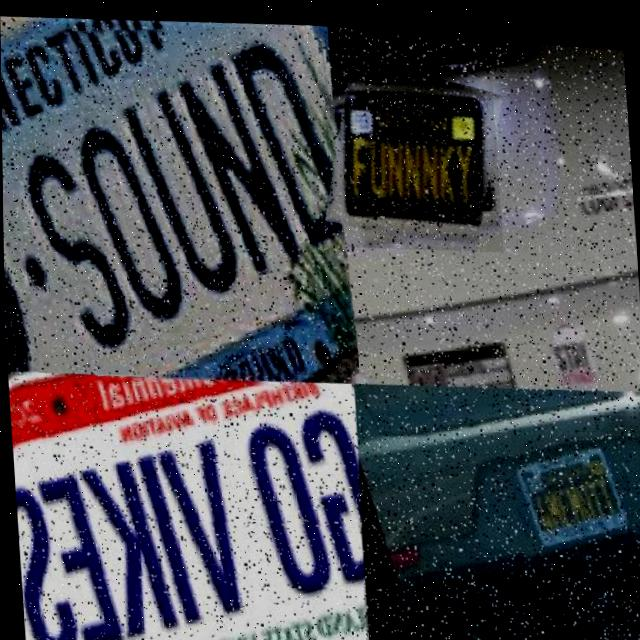LicensePlate: (0, 3, 355, 400), (6, 353, 369, 640), (322, 49, 504, 253), (509, 423, 635, 564)
